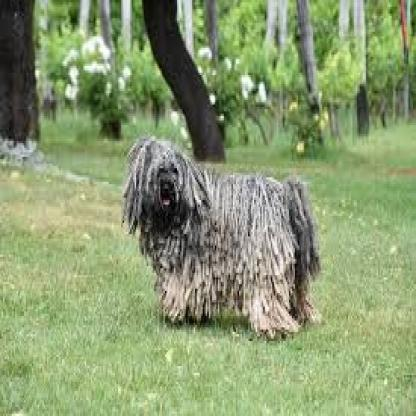puli: (95, 79, 325, 403)
